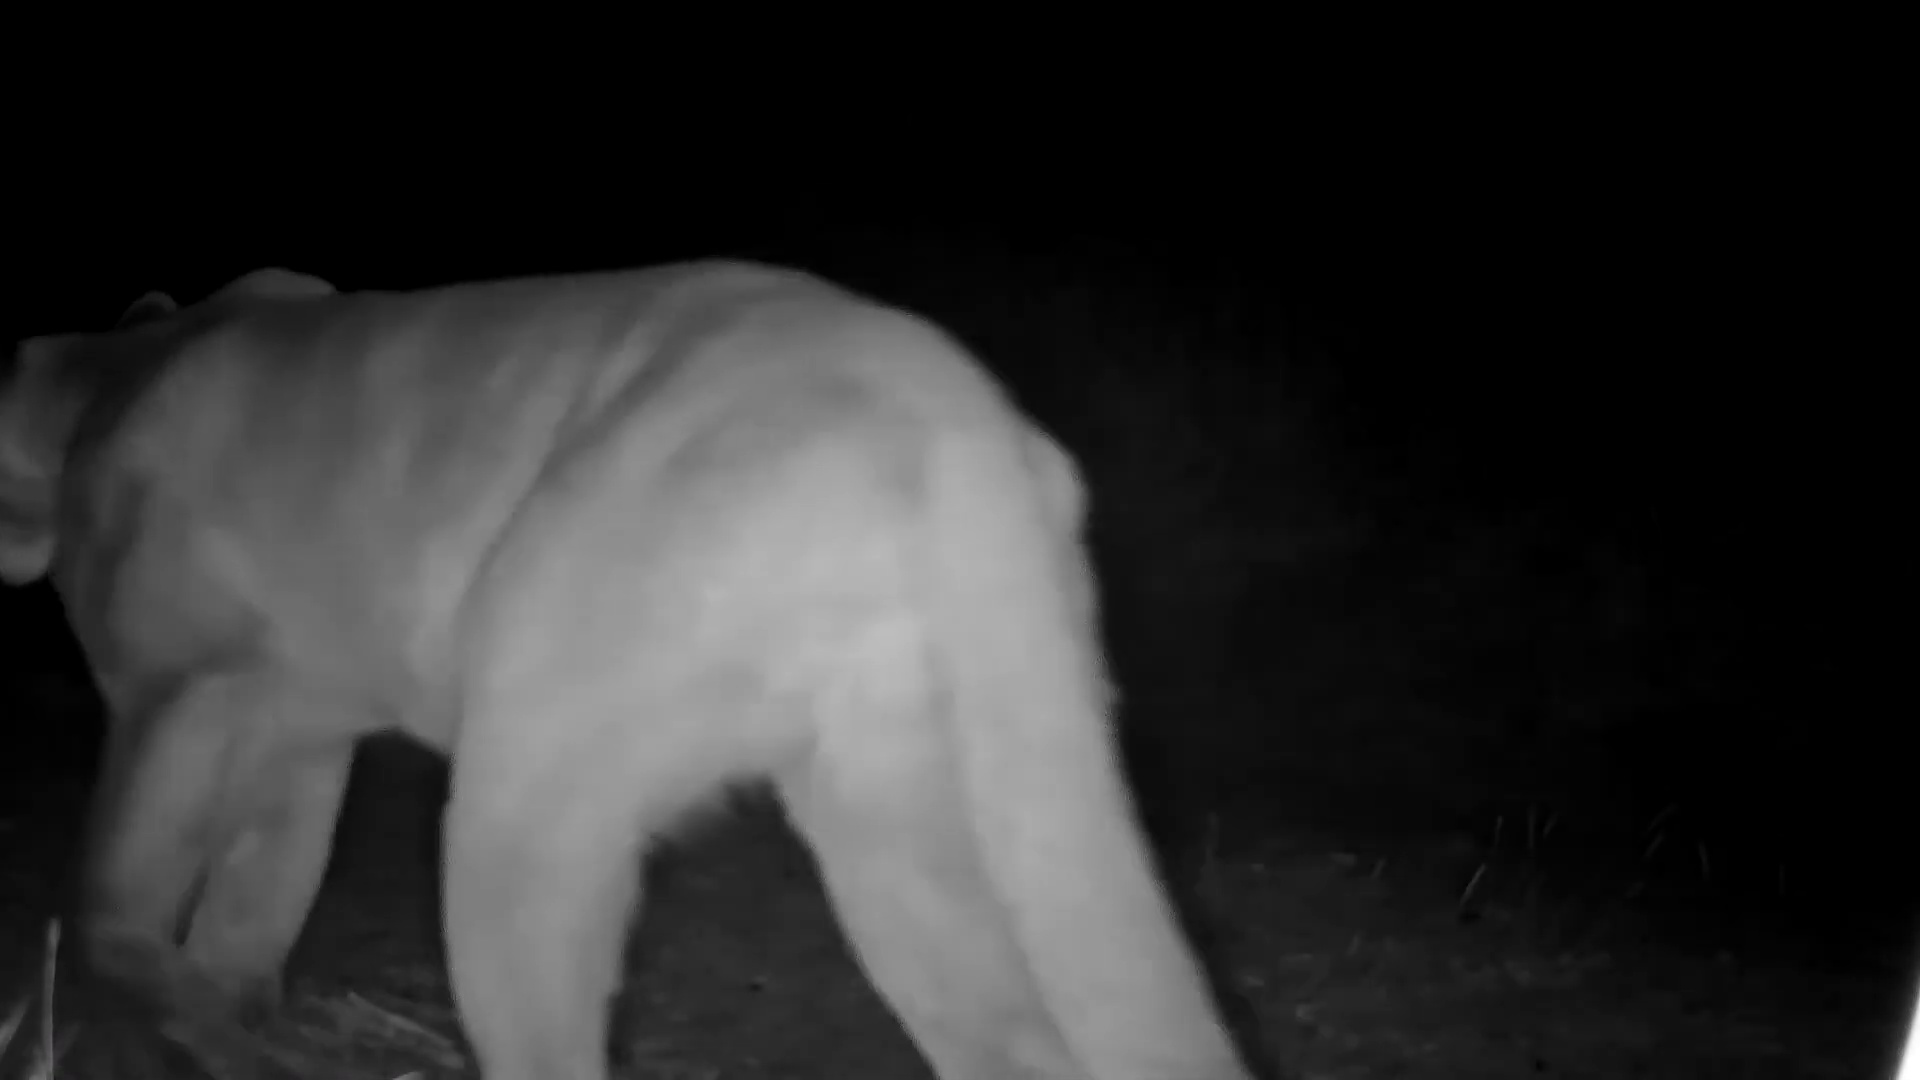Lion: (1, 251, 1253, 1080)
